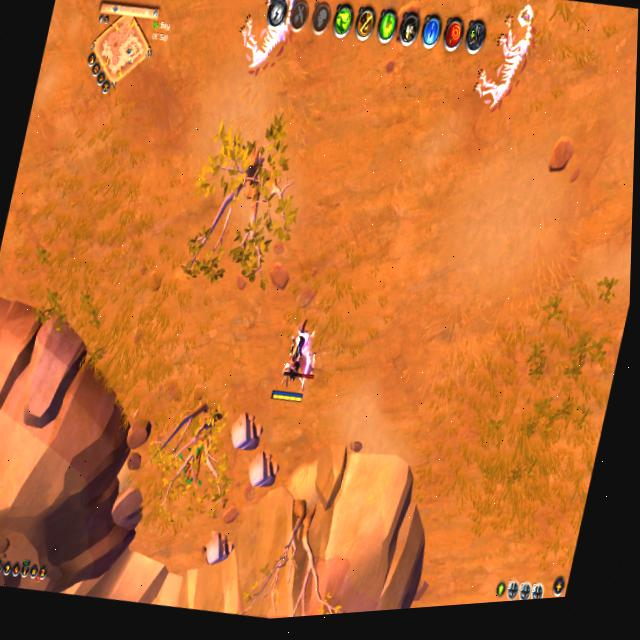ore: (281, 337, 323, 387)
red: (271, 321, 323, 408)
